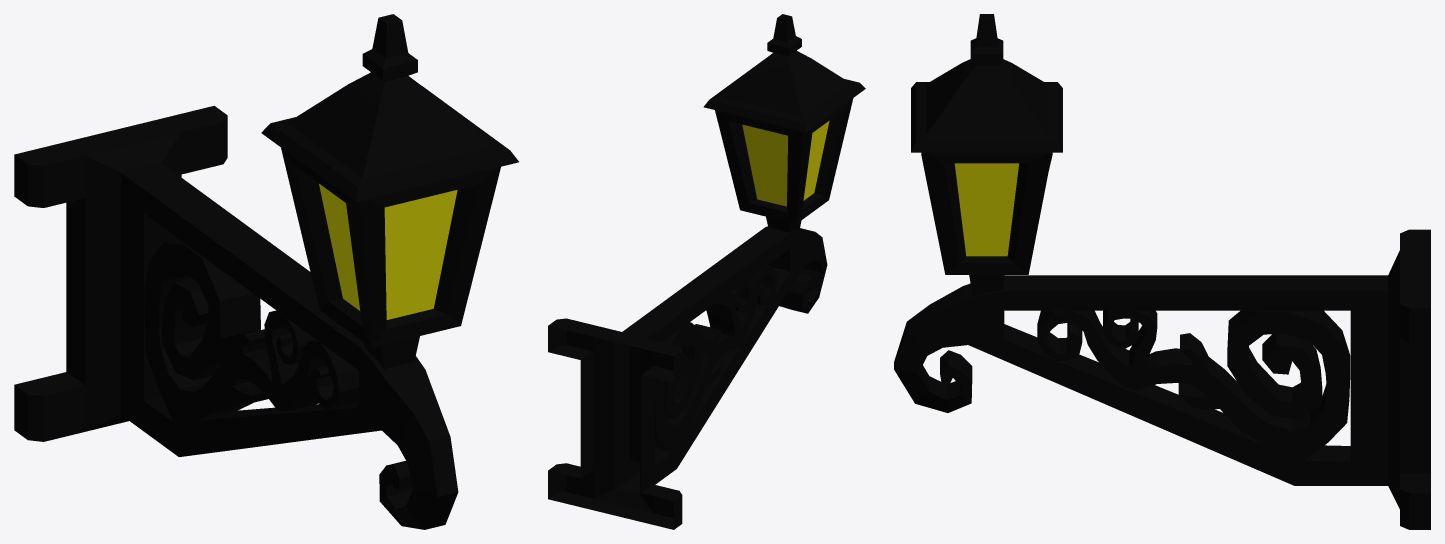
File: StreetLampWall.fbx
3 renders of one model, left to right at view 1: azimuth 30°, elevation 25°; view 2: azimuth 150°, elevation 25°; view 3: azimuth 270°, elevation 25°, orthographic. The views are drawn at different scales.
Parts seen in each view (by area): view 1: AA_Dekaler.007; view 2: AA_Dekaler.007; view 3: AA_Dekaler.007.
Part boxes in pixels (left/top/right/bottom): AA_Dekaler.007: left=14, top=14, right=518, bottom=529; AA_Dekaler.007: left=548, top=14, right=865, bottom=529; AA_Dekaler.007: left=894, top=14, right=1430, bottom=529.
Bounding box in the file's own units: 33.23 × 93.51 × 96.
